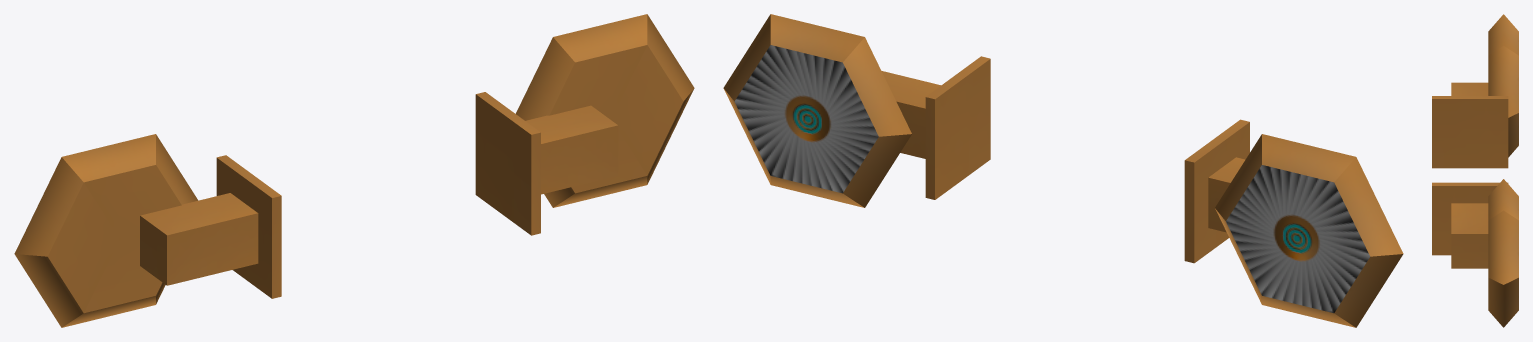
Rendered from fans_OffRoad.fbx.
3 renders of one model, left to right at view 1: azimuth 30°, elevation 25°; view 2: azimuth 150°, elevation 25°; view 3: azimuth 270°, elevation 25°, orthographic. The views are drawn at different scales.
Parts seen in each view (by area): view 1: fans_offroad; view 2: fans_offroad; view 3: fans_offroad.
Part boxes in pixels (x1,y1,x2,y2): fans_offroad: (14,14,694,327); fans_offroad: (723,14,1403,327); fans_offroad: (1432,14,1518,327).
Size of the model in its own units: 1.41 by 0.3394 by 0.2273.
